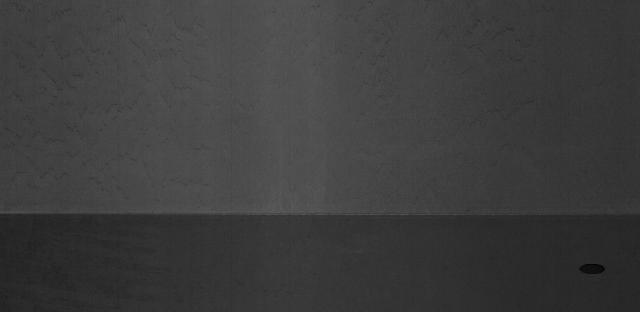punching_hole: (573, 262, 610, 278)
welding_line: (3, 201, 640, 230)
